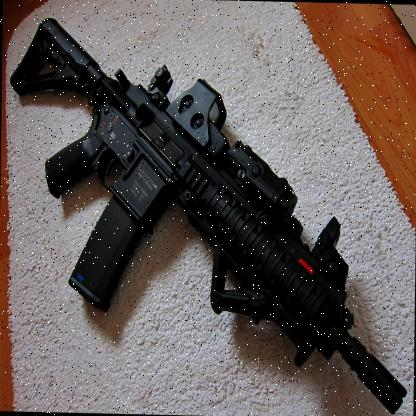rifle: (6, 18, 410, 410)
